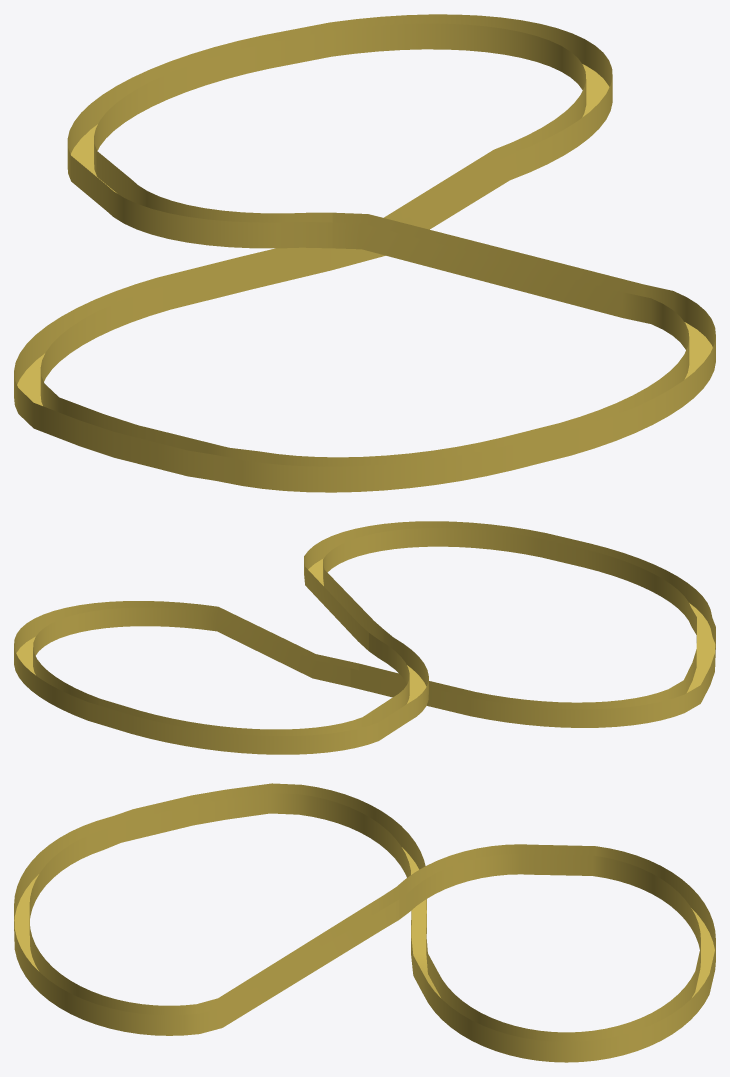
The model's file is cource03wall.obj.
3 views of the same model, one above another, from view 1: azimuth 30°, elevation 25°; view 2: azimuth 150°, elevation 25°; view 3: azimuth 270°, elevation 25° (orthographic). The views are drawn at different scales.
Visible parts, largest first — view 1: 03wall; view 2: 03wall; view 3: 03wall.
Part boxes in pixels (x1,y1,x2,y2): 03wall: [14, 14, 715, 492]; 03wall: [14, 521, 715, 754]; 03wall: [14, 783, 715, 1062].
Bounding box in the file's own units: 302 × 25 × 310.
